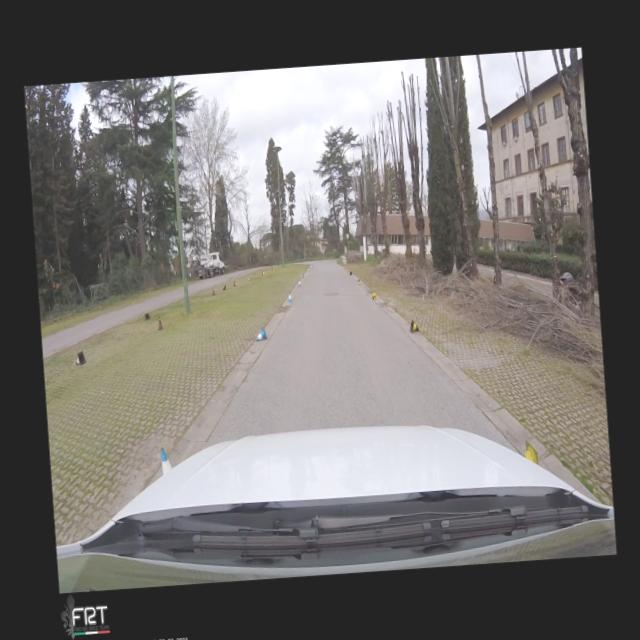blue_cone: (160, 446, 172, 475), (255, 328, 267, 340), (288, 291, 292, 302), (297, 280, 301, 286), (300, 273, 304, 278)
orange_cone: (74, 351, 86, 365), (247, 277, 251, 281), (262, 271, 264, 275)
unknown_cone: (156, 316, 164, 330), (144, 312, 150, 320), (210, 287, 216, 295), (221, 284, 226, 289), (233, 280, 237, 286), (349, 272, 352, 276)
yellow_cone: (520, 438, 538, 466), (409, 318, 421, 332), (372, 292, 376, 300), (356, 277, 359, 284)
